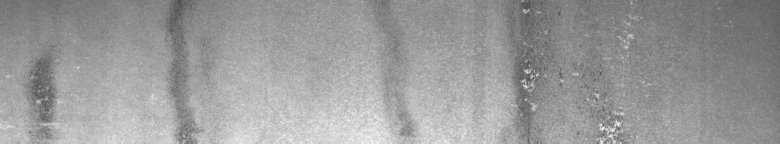hc: (508, 4, 642, 136)
